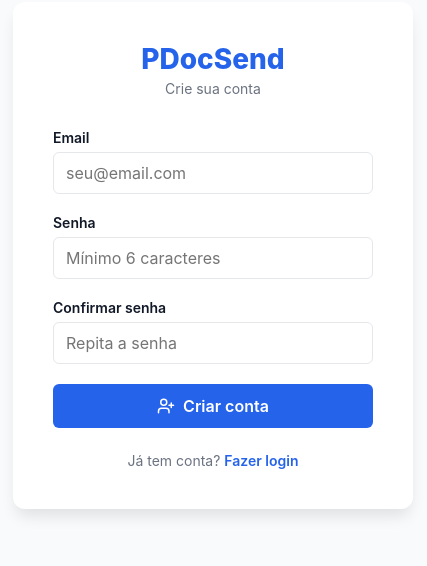
Scenario: Register › deve mostrar erro quando senhas não conferem
Type "test@test.com" into the field with placeholder "seu@email.com" at [213, 172], box [53,152,373,194]
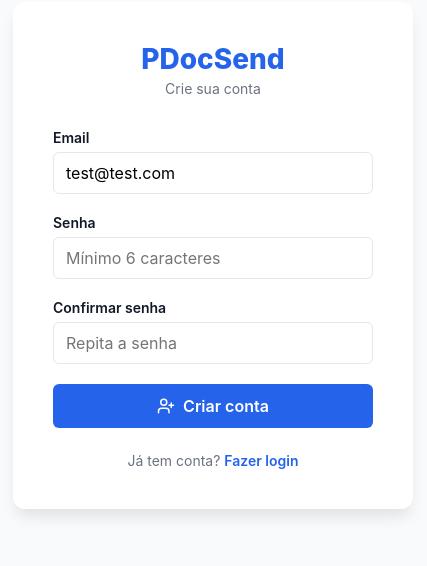
Type "123456" into the password field with placeholder "Mínimo 6 caracteres" at [213, 258], box [53,236,373,278]
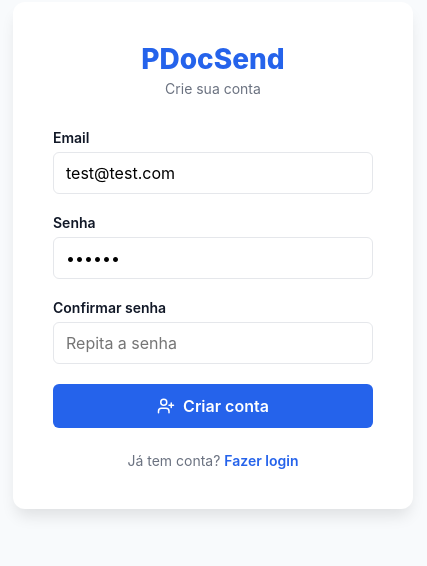
Type "654321" into the password field with placeholder "Repita a senha" at [213, 342], box [53,322,373,364]
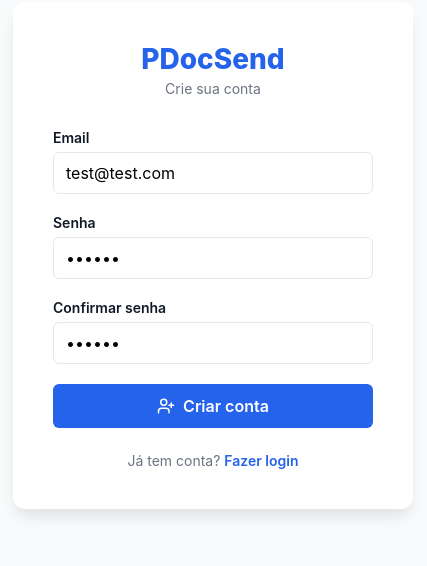
Click the button "Criar conta" at [213, 406], box [53,384,373,428]
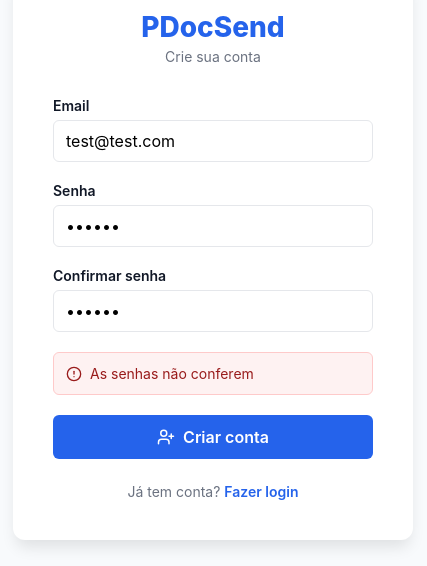
Expected: the text "As senhas não conferem" is shown, [53,352,373,395]
